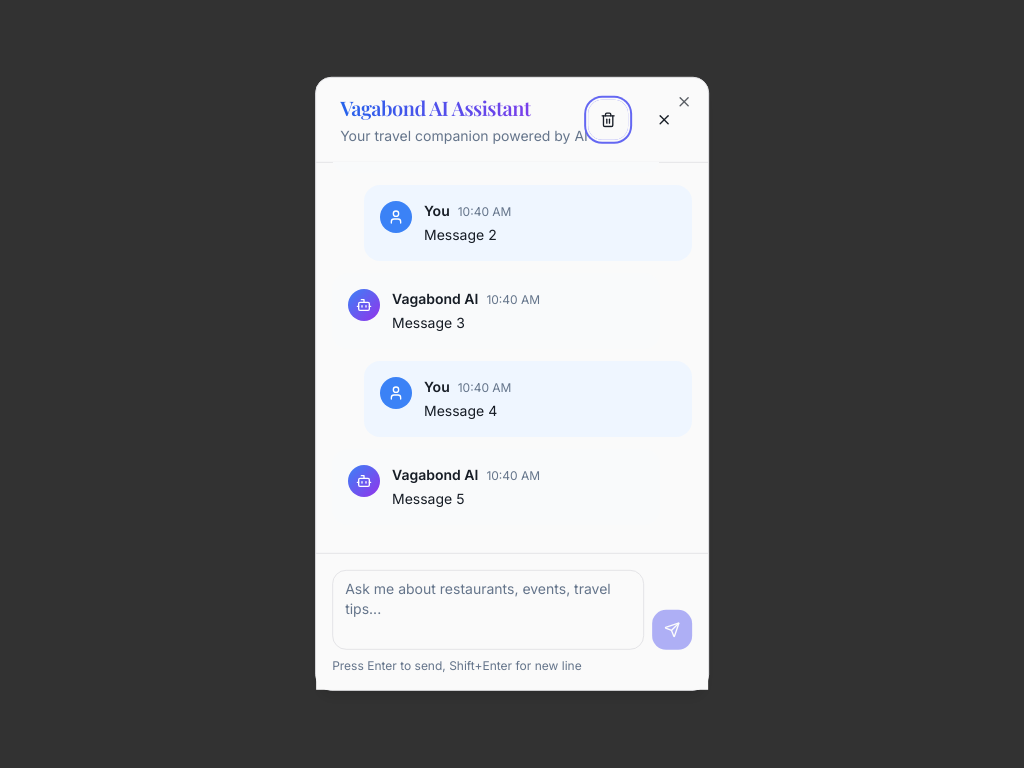
VagabonAIChatModal › should show confirmation dialog when clearing more than 5 messages
(page scrolled)
Click the button named "Clear chat history".
click(608, 120)  # box [588, 100, 628, 140]
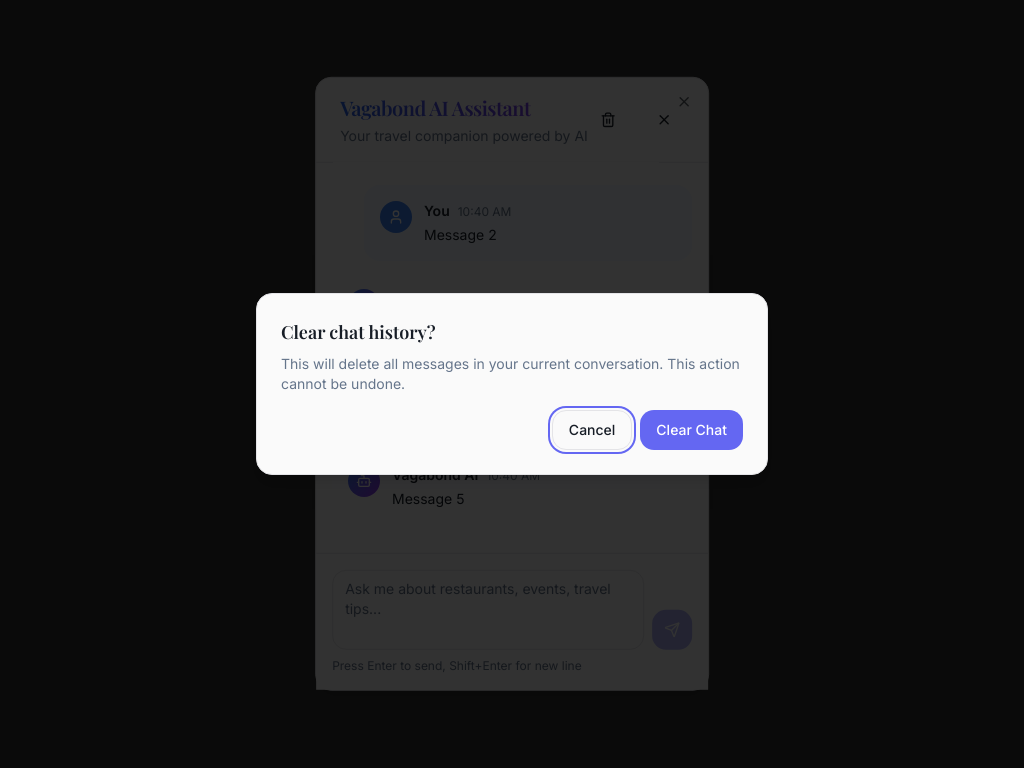
Now the heading "Clear chat history?" is shown, box [281, 320, 436, 344]
